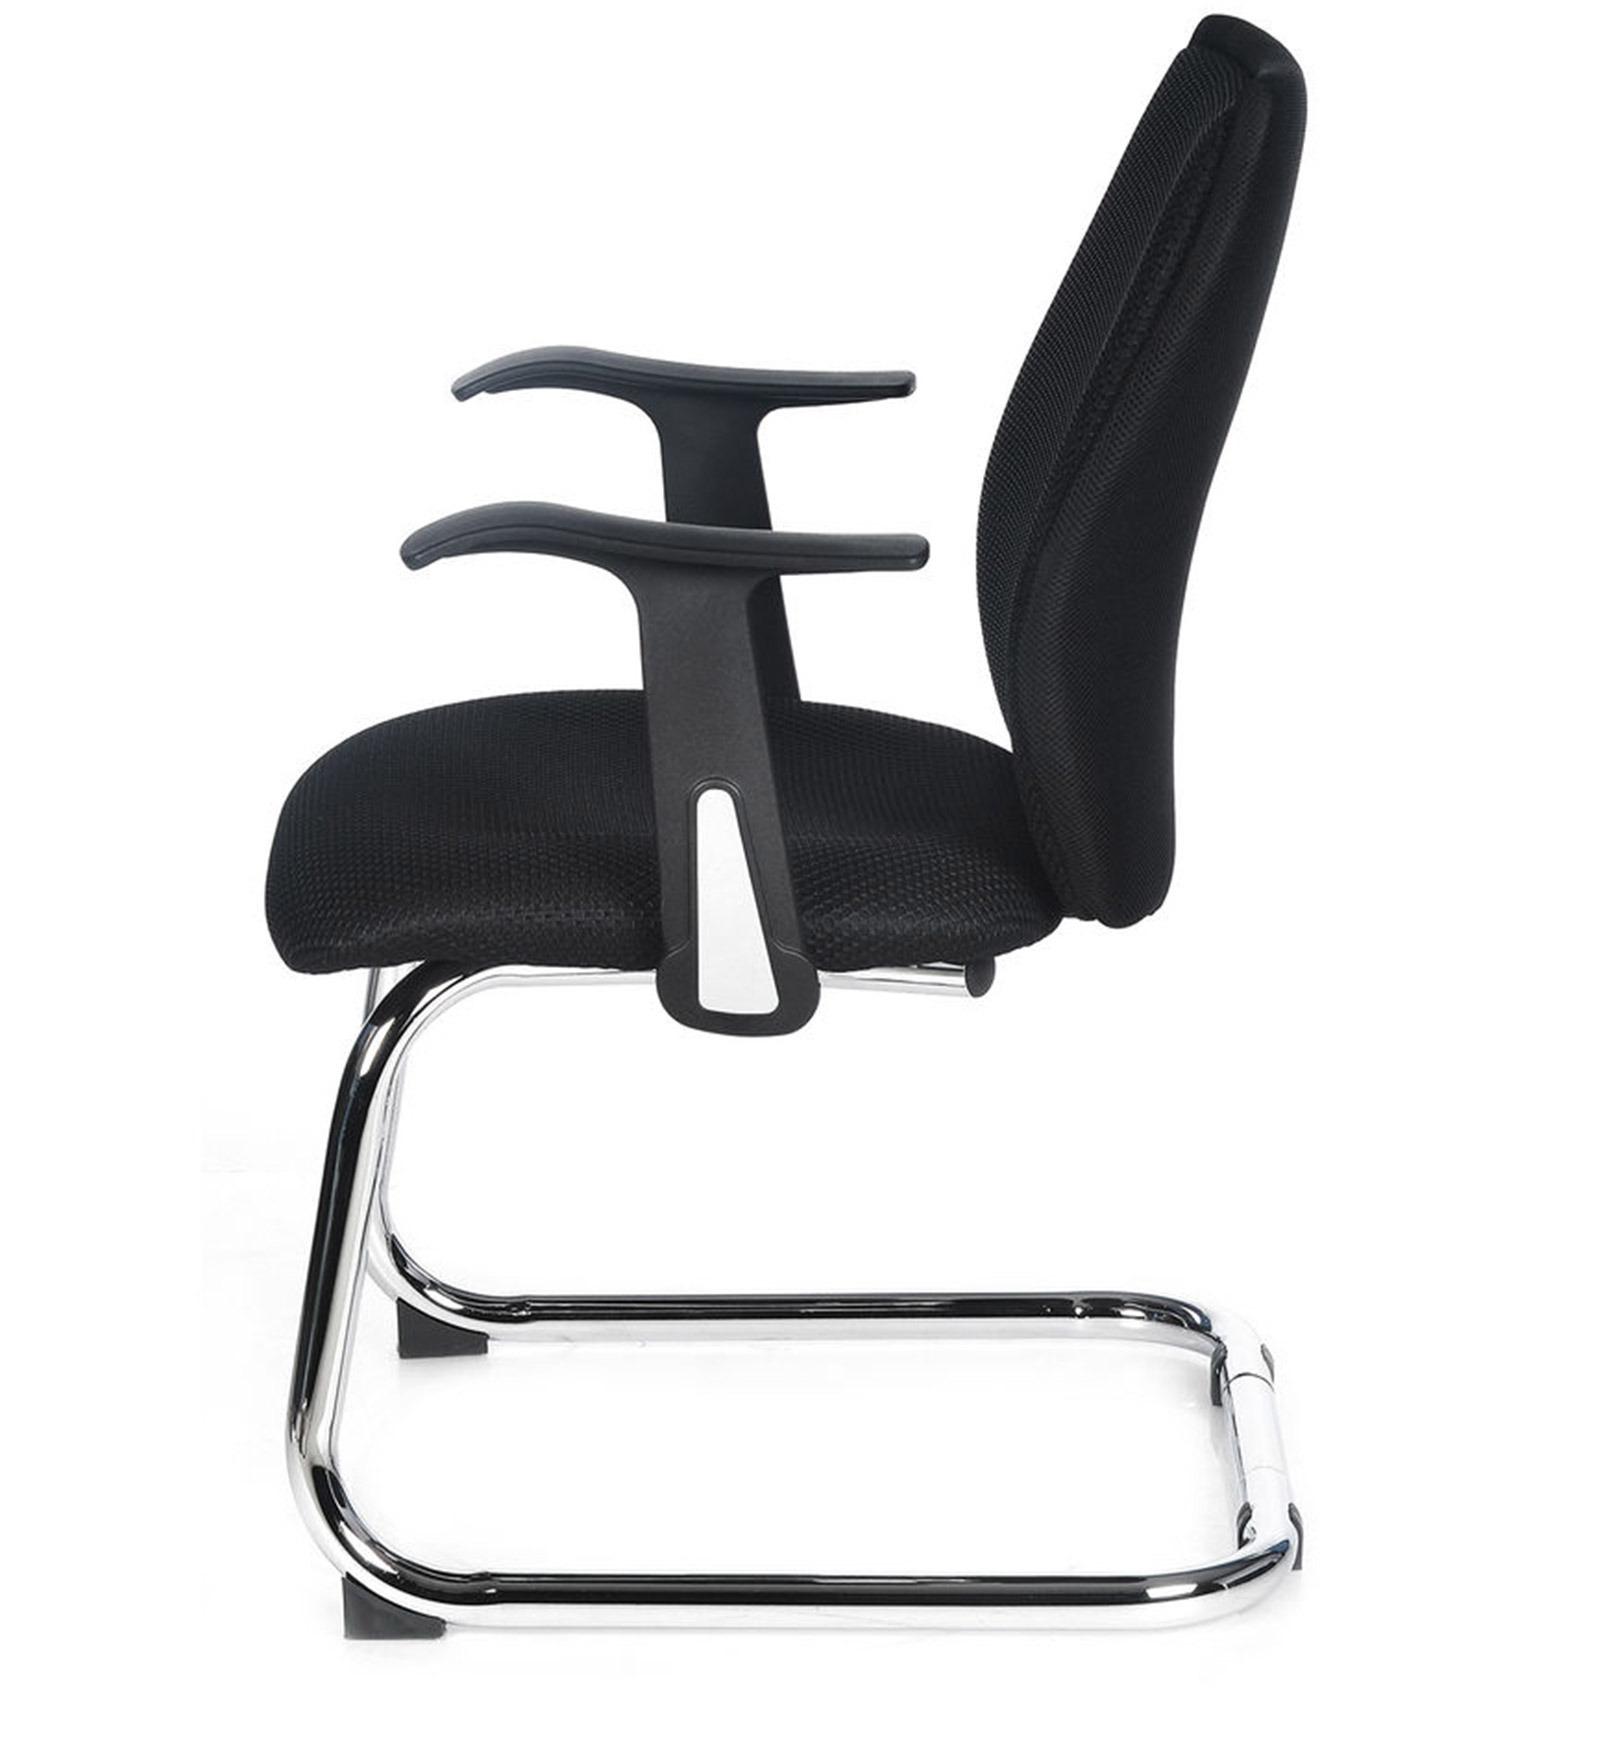Blaze Chair in Black Colour by Nilkamal: (293, 12, 1341, 1666)
